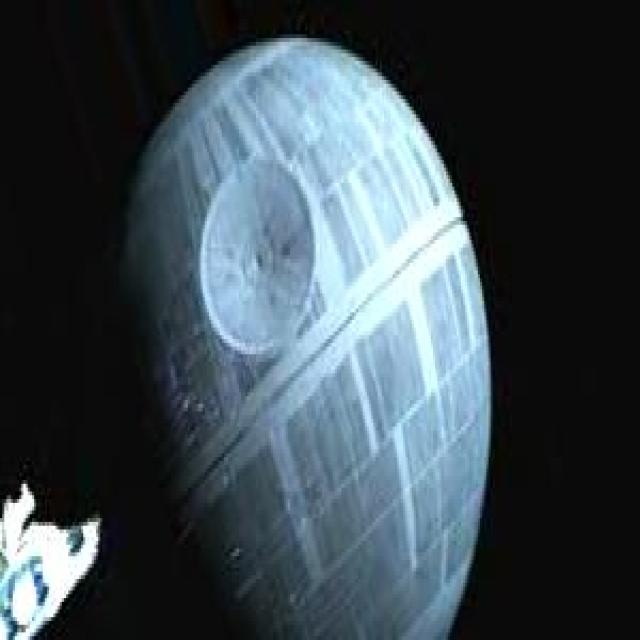deathstar: (100, 37, 492, 640)
